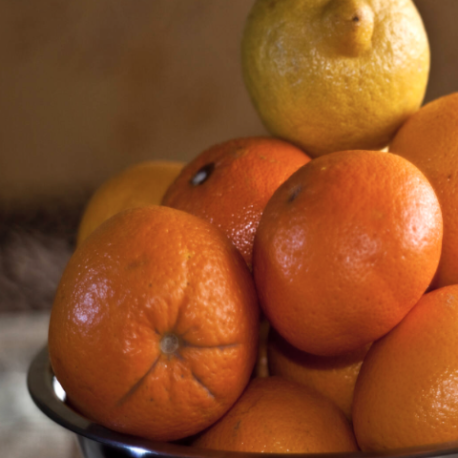orange: (37, 199, 264, 458), (234, 109, 447, 365)
